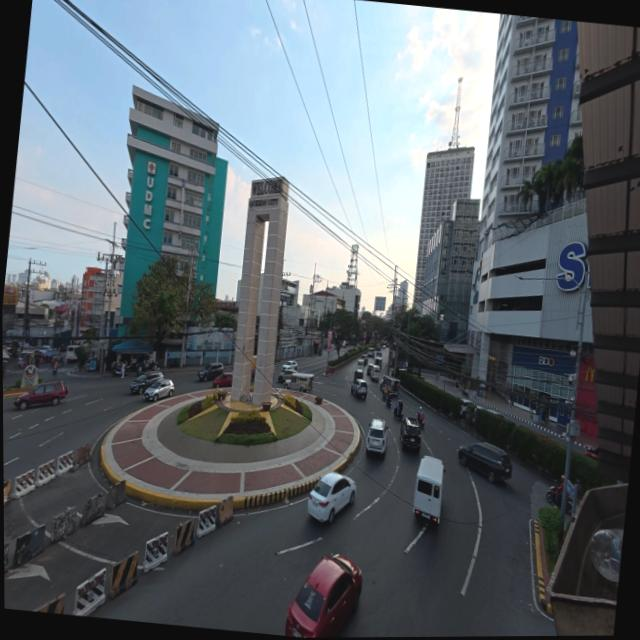Jeepneys: (285, 373, 313, 392), (381, 375, 400, 397), (374, 356, 383, 366)
car: (285, 554, 362, 637), (308, 473, 356, 523), (458, 442, 512, 482), (14, 382, 68, 410), (129, 367, 163, 397), (366, 418, 388, 458), (400, 418, 421, 451), (144, 379, 174, 401), (198, 363, 223, 381), (476, 405, 506, 419), (351, 379, 367, 399), (460, 399, 475, 420), (213, 372, 232, 387), (18, 351, 34, 366), (278, 370, 296, 383), (282, 360, 298, 371), (584, 449, 598, 460), (353, 368, 364, 380), (357, 359, 365, 370), (40, 346, 51, 353), (367, 363, 373, 375), (366, 348, 373, 358), (363, 354, 368, 365), (3, 363, 7, 376)
motorcycle: (547, 483, 559, 504), (394, 404, 403, 420), (112, 363, 122, 377), (417, 411, 424, 428), (168, 359, 179, 368), (112, 368, 122, 377), (385, 396, 392, 408), (462, 387, 469, 397), (382, 391, 388, 400), (53, 365, 58, 375), (3, 364, 6, 376)
vans: (414, 456, 444, 523), (66, 345, 81, 362), (372, 365, 381, 382), (357, 359, 365, 370)
